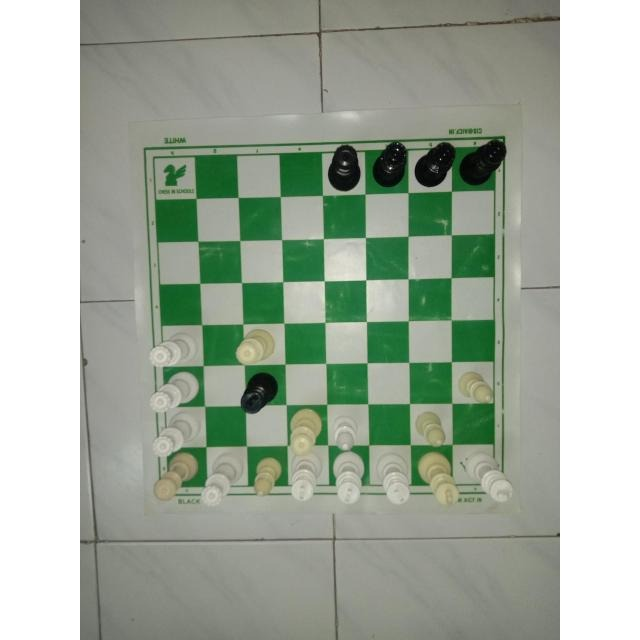black-king: (238, 372, 284, 416)
black-queen: (456, 133, 508, 191), (319, 142, 363, 196), (370, 140, 409, 198), (412, 142, 458, 188)
white-bishop: (455, 367, 497, 407), (411, 407, 449, 451), (251, 449, 283, 501), (328, 409, 364, 453)
white-king: (414, 449, 465, 511), (462, 449, 515, 505), (326, 450, 373, 508), (284, 444, 328, 504), (372, 450, 416, 509)
white-queen: (197, 448, 246, 509), (150, 408, 208, 459), (151, 451, 205, 503), (143, 370, 204, 416), (146, 327, 204, 369), (284, 407, 330, 458), (235, 326, 284, 368)
